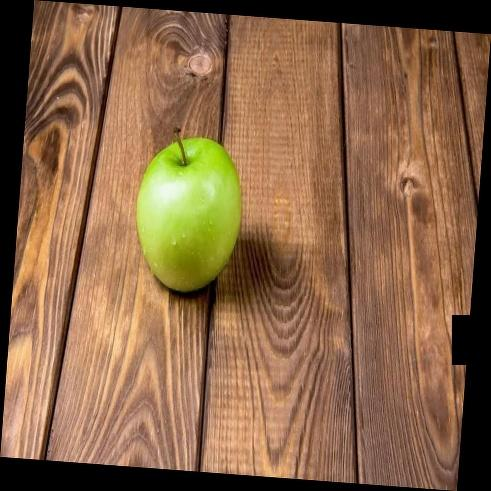green apple: (136, 132, 253, 295)
